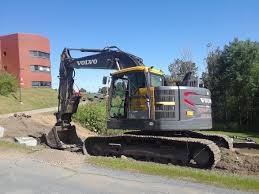excavator: (44, 46, 235, 166)
